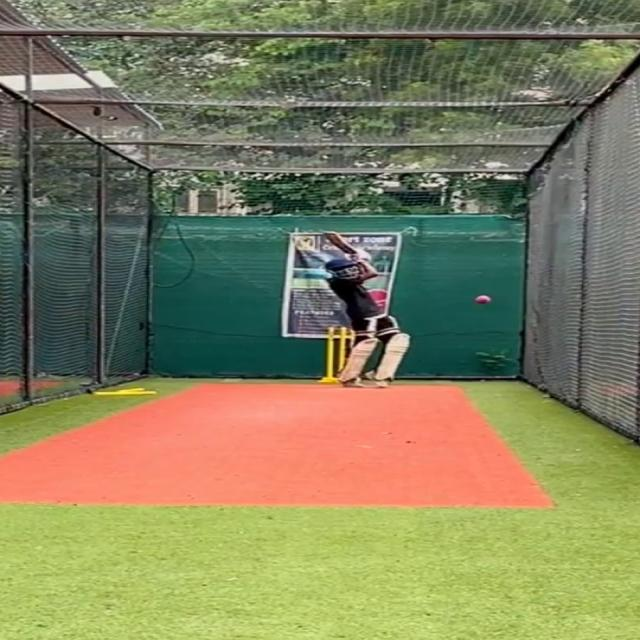ball: (472, 292, 492, 304)
stump: (321, 325, 346, 383)
